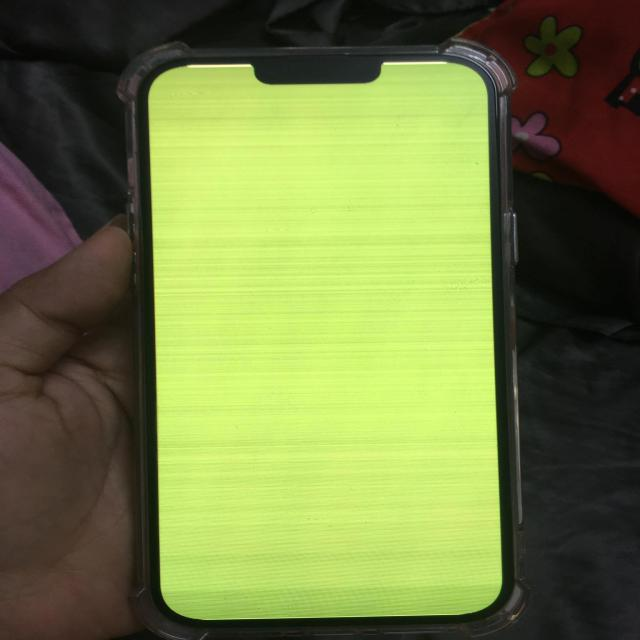gen_12_13: (125, 50, 527, 638)
